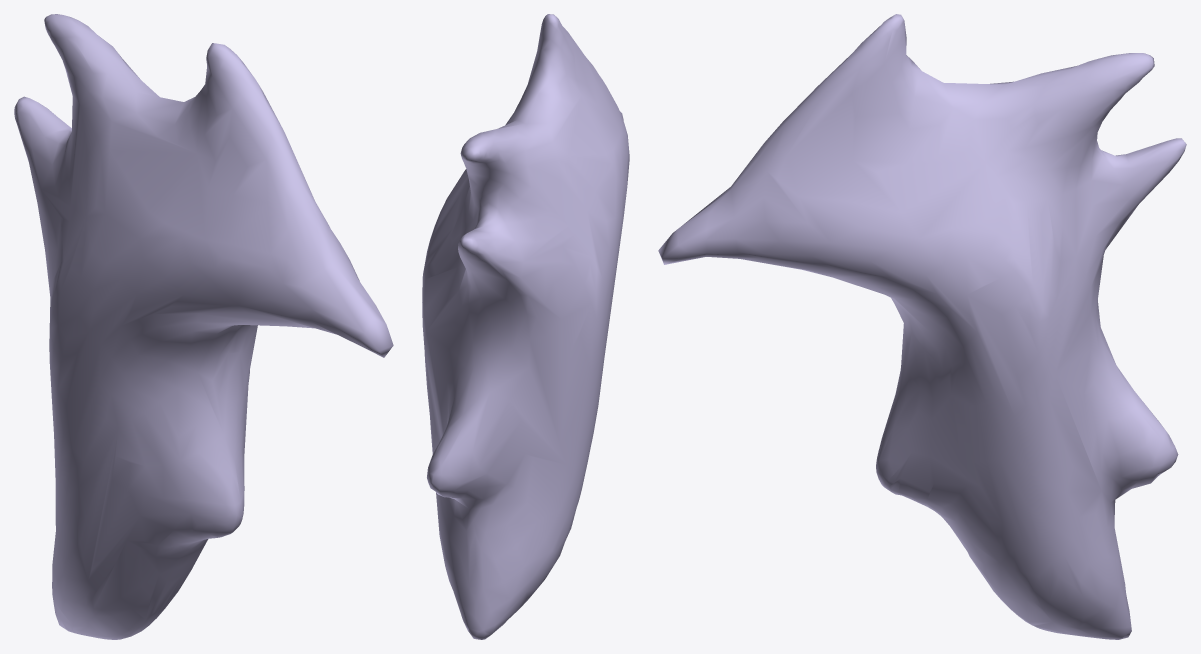
The model's file is Tail_20.fbx.
3 renders of one model, left to right at view 1: azimuth 30°, elevation 25°; view 2: azimuth 150°, elevation 25°; view 3: azimuth 270°, elevation 25°, orthographic. The views are drawn at different scales.
Visible parts, largest first — view 1: Tail_20; view 2: Tail_20; view 3: Tail_20.
Boxes of the visible parts, left/top/right/bottom form: Tail_20: left=14, top=14, right=393, bottom=639; Tail_20: left=422, top=14, right=629, bottom=639; Tail_20: left=658, top=14, right=1186, bottom=639.
Size of the model in its own units: 76.52 by 240 by 180.
